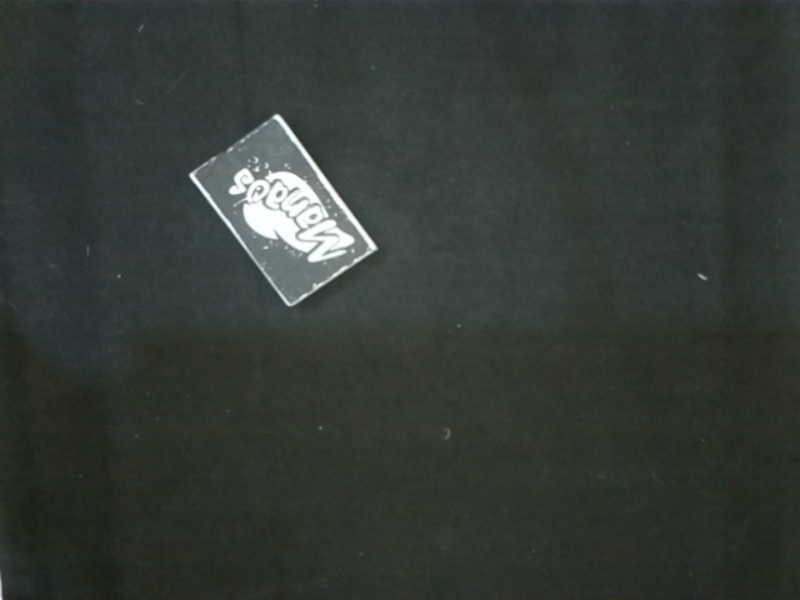manaos: (190, 116, 378, 309)
